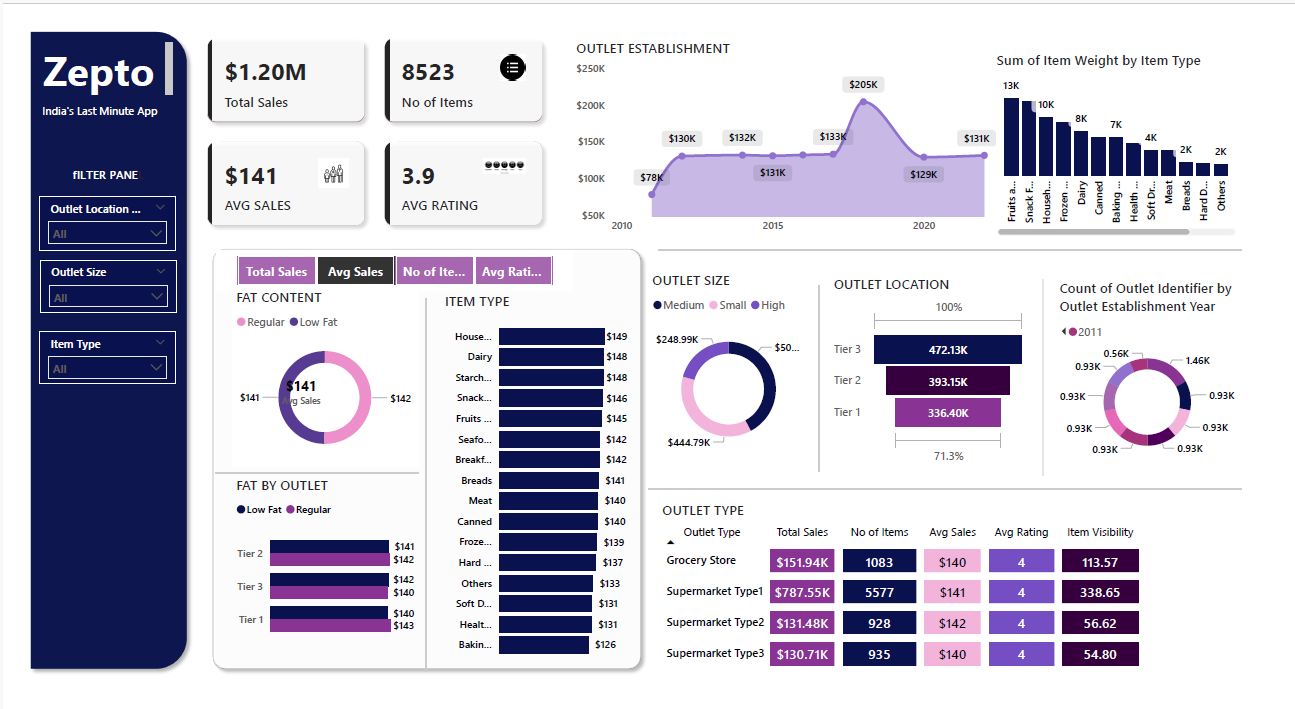

What the dashboard file says about the page in this screenshot:
{"tool":"powerbi","page":{"name":"Page 1","canvas":[1280,720],"ordinal":0},"visuals":[{"type":"shape","box":[0,26.3,180,641.2],"z":0},{"type":"funnel","title":"Outlet Location","fields":{"Category":["BlinkIT Grocery Data.Outlet Location Type"],"Y":["Sum(BlinkIT Grocery Data.Sales)"]},"box":[890.4,274,202.6,169.8],"z":1000},{"type":"donutChart","title":"Outlet Size","fields":{"Category":["BlinkIT Grocery Data.Outlet Size"],"Y":["Sum(BlinkIT Grocery Data.Sales)"]},"box":[692.1,269.7,198.4,174.1],"z":2000},{"type":"slicer","fields":{"Values":["BlinkIT Grocery Data.Outlet Location Type"]},"box":[14.8,258.8,150,69.6],"z":3000},{"type":"slicer","fields":{"Values":["BlinkIT Grocery Data.Outlet Size"]},"box":[16.1,341.6,150,69.6],"z":4000},{"type":"slicer","fields":{"Values":["BlinkIT Grocery Data.Item Type"]},"box":[14,423.8,150,70],"z":5000},{"type":"donutChart","fields":{"Category":["BlinkIT Grocery Data.Outlet Establishment Year"],"Y":["CountNonNull(BlinkIT Grocery Data.Outlet Identifier)"]},"box":[1093.1,271.1,186.9,176.9],"z":6000},{"type":"areaChart","fields":{"Y":["Sum(BlinkIT Grocery Data.Sales)"],"Category":["BlinkIT Grocery Data.Outlet Establishment Year"]},"box":[640.7,31.4,378.1,226.9],"z":7000},{"type":"columnChart","fields":{"Y":["Sum(BlinkIT Grocery Data.Item Weight)"],"Category":["BlinkIT Grocery Data.Item Type"]},"box":[1018.2,32.8,261.5,227.3],"z":8000},{"type":"textbox","box":[28.5,67.1,138.4,68.5],"z":9000},{"type":"cardVisual","fields":{"Data":["BlinkIT Grocery Data.Total Sales","BlinkIT Grocery Data.Avg Rating","BlinkIT Grocery Data.No of Items","BlinkIT Grocery Data.Avg Sales"]},"box":[164.5,21.5,473.7,252.1],"z":10000},{"type":"shape","box":[179.8,276.8,512.3,399.6],"z":11000},{"type":"slicer","fields":{"Values":["Metrices.Metrices"]},"box":[182.7,288.2,499.4,52.8],"z":12000},{"type":"donutChart","title":"Fat Content","fields":{"Y":["BlinkIT Grocery Data.No of Items"],"Category":["BlinkIT Grocery Data.Item Fat Content"]},"box":[209.8,345.3,214,148.4],"z":13000},{"type":"barChart","title":"Item Type","fields":{"Y":["BlinkIT Grocery Data.No of Items"],"Category":["BlinkIT Grocery Data.Item Type"]},"box":[426.7,348.2,239.7,306.8],"z":14000},{"type":"barChart","title":"Fat By Outlet","fields":{"Y":["BlinkIT Grocery Data.No of Items"],"Series":["BlinkIT Grocery Data.Item Fat Content"],"Category":["BlinkIT Grocery Data.Outlet Location Type"]},"box":[209.8,493.7,214,165.5],"z":15000},{"type":"shape","box":[701.6,444.1,578.1,229.9],"z":16000},{"type":"pivotTable","fields":{"Rows":["BlinkIT Grocery Data.Outlet Type"],"Values":["BlinkIT Grocery Data.Total Sales","BlinkIT Grocery Data.No of Items","BlinkIT Grocery Data.Avg Sales","BlinkIT Grocery Data.Avg Rating","Sum(BlinkIT Grocery Data.Item Visibility)"]},"box":[692.1,448.1,587.9,218],"z":17000}]}

Visuals, with their boxes in screenshot pixels (x1, y1, x2, y2), scaled from the page's 1280x720 canvas onto the 1295x709 screenshot:
shape: locate(0, 26, 182, 657)
"Outlet Location" funnel: locate(901, 270, 1106, 437)
"Outlet Size" donutChart: locate(700, 266, 901, 437)
slicer - BlinkIT Grocery Data.Outlet Location Type: locate(15, 255, 167, 323)
slicer - BlinkIT Grocery Data.Outlet Size: locate(16, 336, 168, 405)
slicer - BlinkIT Grocery Data.Item Type: locate(14, 417, 166, 486)
donutChart - BlinkIT Grocery Data.Outlet Establishment Year x CountNonNull(BlinkIT Grocery Data.Outlet Identifier): locate(1106, 267, 1294, 441)
areaChart - Sum(BlinkIT Grocery Data.Sales) x BlinkIT Grocery Data.Outlet Establishment Year: locate(648, 31, 1031, 254)
columnChart - Sum(BlinkIT Grocery Data.Item Weight) x BlinkIT Grocery Data.Item Type: locate(1030, 32, 1294, 256)
textbox: locate(29, 66, 169, 134)
cardVisual - BlinkIT Grocery Data.Total Sales x BlinkIT Grocery Data.Avg Rating: locate(166, 21, 646, 269)
shape: locate(182, 273, 700, 666)
slicer - Metrices.Metrices: locate(185, 284, 690, 336)
"Fat Content" donutChart: locate(212, 340, 429, 486)
"Item Type" barChart: locate(432, 343, 674, 645)
"Fat By Outlet" barChart: locate(212, 486, 429, 649)
shape: locate(710, 437, 1294, 664)
pivotTable - BlinkIT Grocery Data.Outlet Type x BlinkIT Grocery Data.Total Sales: locate(700, 441, 1294, 656)
